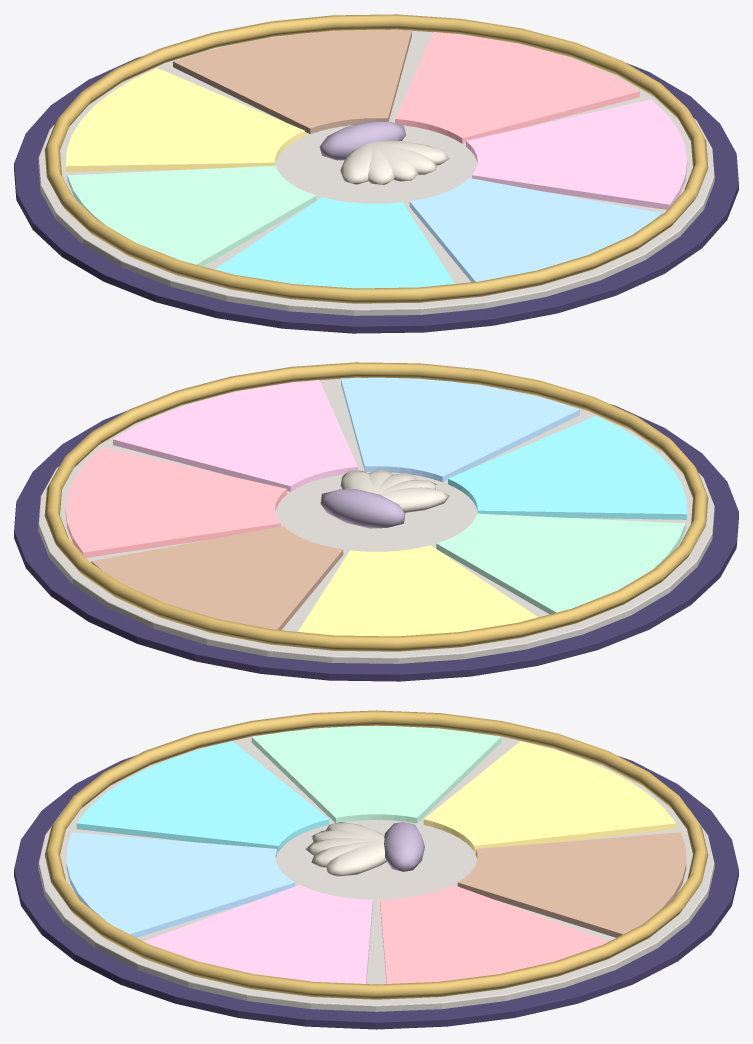
Rendered from pearl_floor_medallion.glb.
3 views of the same model, one above another, from view 1: azimuth 30°, elevation 25°; view 2: azimuth 150°, elevation 25°; view 3: azimuth 270°, elevation 25° (orthographic).
Visible parts, largest first — view 1: pearl_floor_medallion.001; view 2: pearl_floor_medallion.001; view 3: pearl_floor_medallion.001.
Boxes of the visible parts, x1,y1,x2,y2 form: pearl_floor_medallion.001: (14, 14, 738, 333); pearl_floor_medallion.001: (14, 362, 738, 681); pearl_floor_medallion.001: (14, 710, 738, 1029).
Size of the model in its own units: 10.4 by 0.718 by 10.4.
